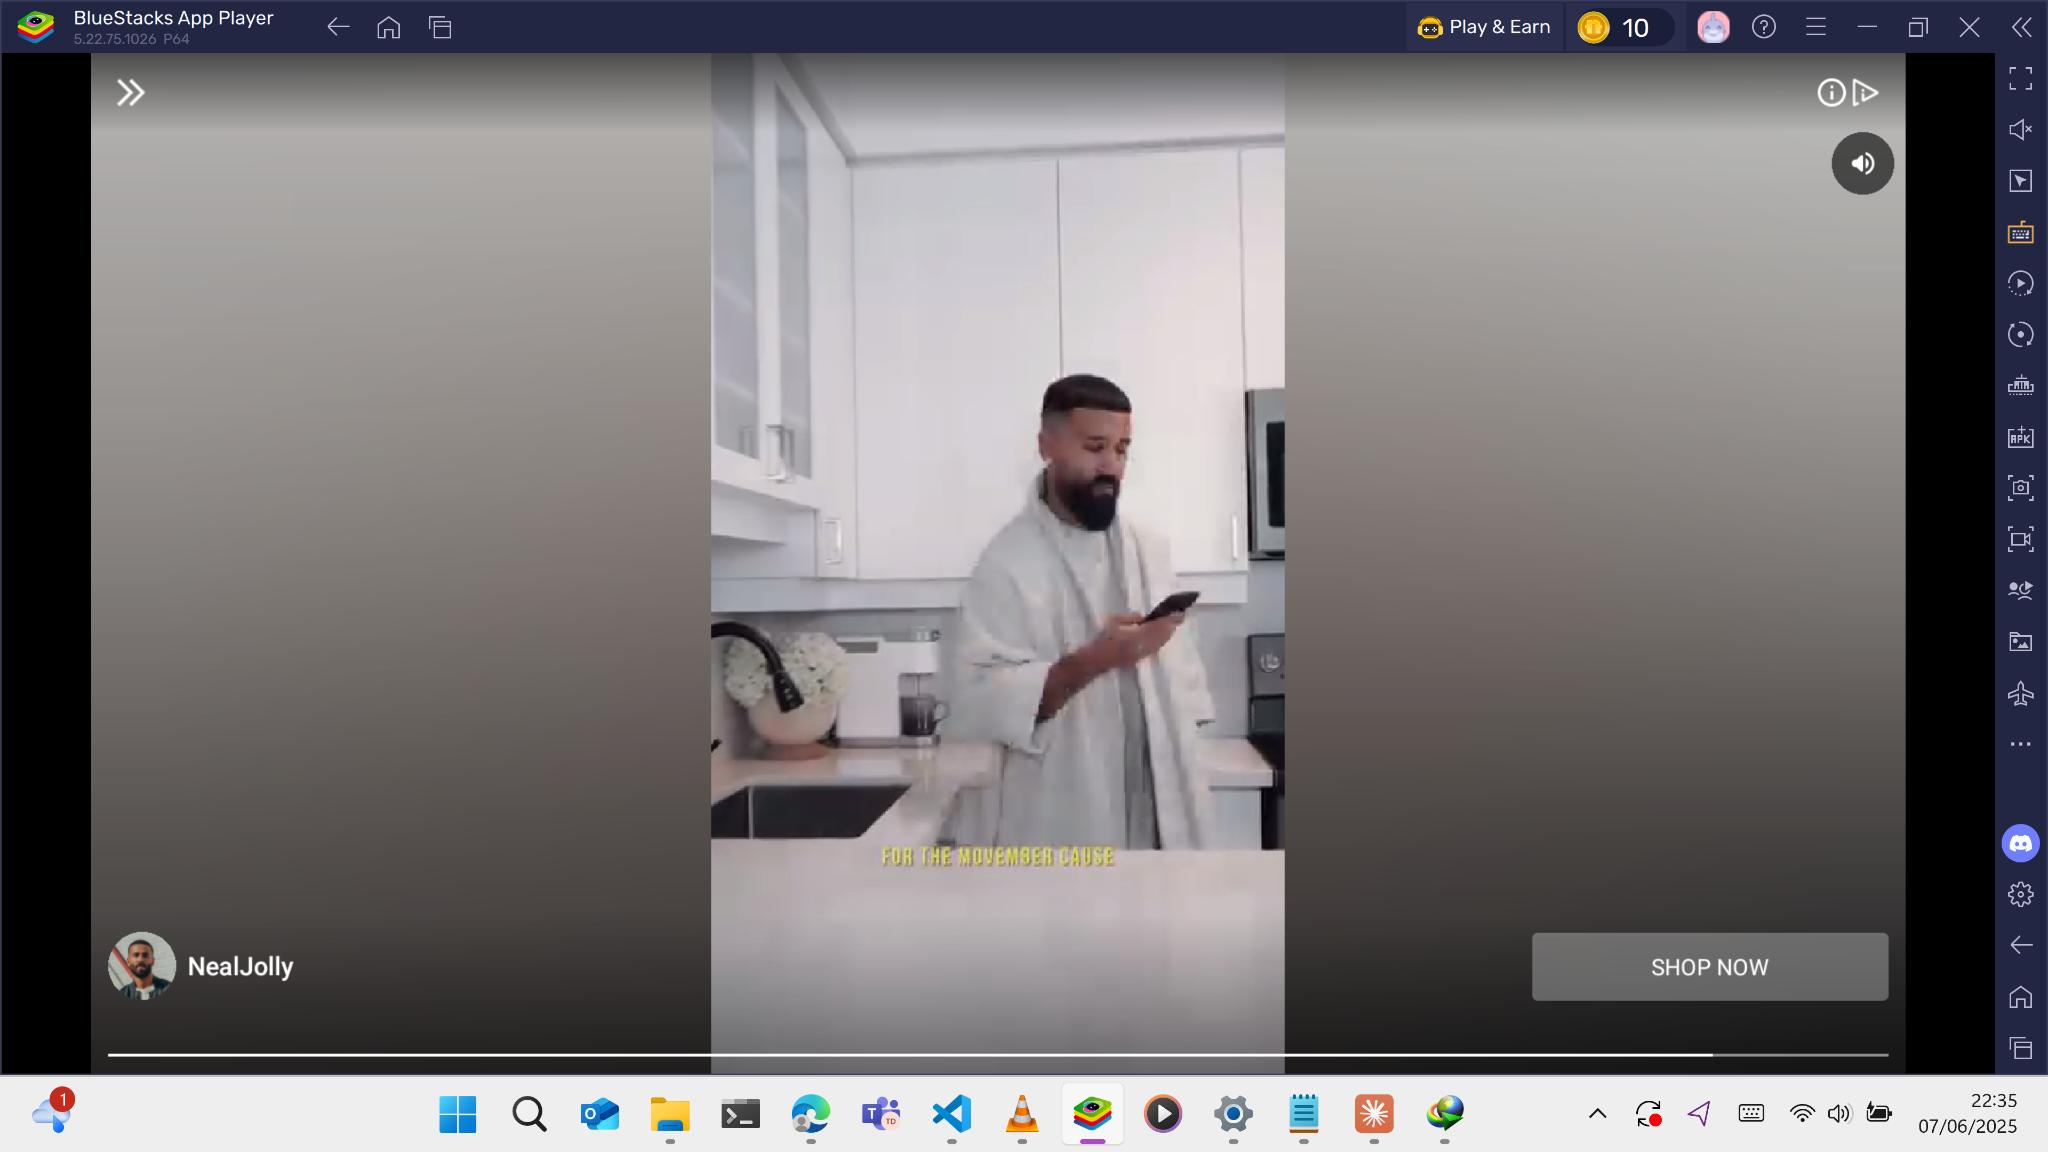skip_ad: (113, 75, 149, 111)
